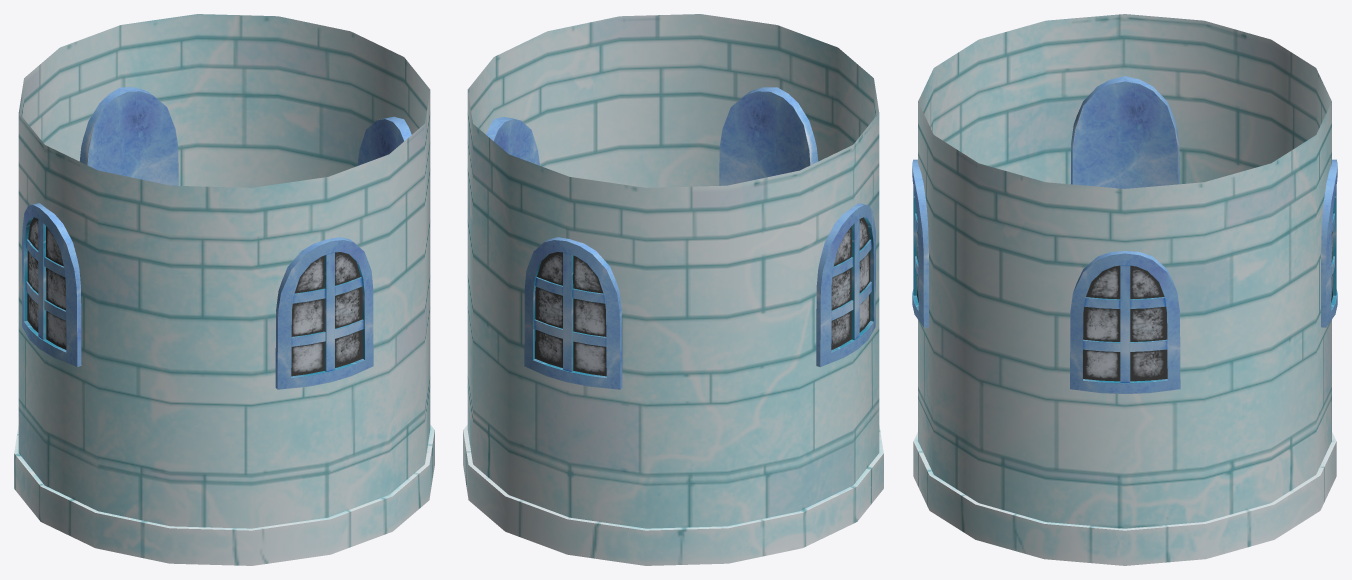
Rendered from sb_obj_outdoor023_IceCastle01_CircleWall02.fbx.
3 views of the same model, side by side, from view 1: azimuth 30°, elevation 25°; view 2: azimuth 150°, elevation 25°; view 3: azimuth 270°, elevation 25° (orthographic).
Parts seen in each view (by area): view 1: sb_obj_outdoor023_IceCastle01_CircleWall02; view 2: sb_obj_outdoor023_IceCastle01_CircleWall02; view 3: sb_obj_outdoor023_IceCastle01_CircleWall02.
Part boxes in pixels (x1,y1,x2,y2): sb_obj_outdoor023_IceCastle01_CircleWall02: [14, 14, 434, 565]; sb_obj_outdoor023_IceCastle01_CircleWall02: [463, 14, 883, 565]; sb_obj_outdoor023_IceCastle01_CircleWall02: [912, 14, 1337, 565].
Size of the model in its own units: 3.08 by 3 by 3.08.
